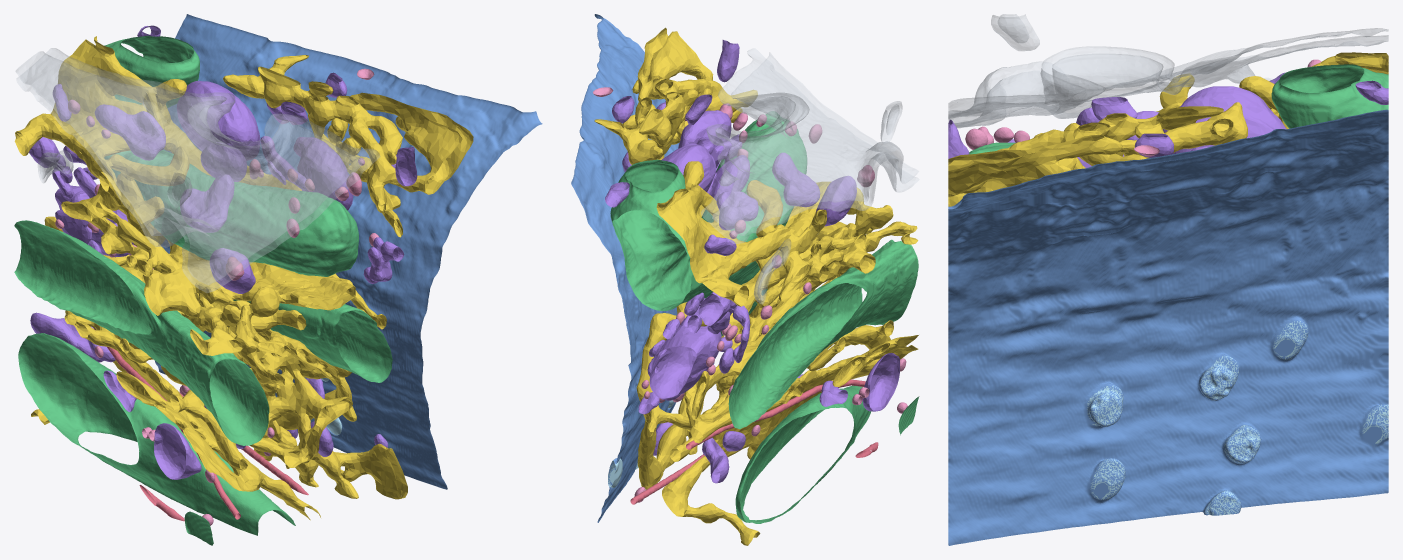
Rendered from hela_organelles.glb.
3 views of the same model, side by side, from view 1: azimuth 30°, elevation 25°; view 2: azimuth 150°, elevation 25°; view 3: azimuth 270°, elevation 25° (orthographic). The views are drawn at different scales.
Parts seen in each view (by area): view 1: er, mitochondria, plasma_membrane, nucleus, endosome, vesicle, microtubule; view 2: er, mitochondria, plasma_membrane, endosome, nucleus, vesicle, microtubule; view 3: nucleus, plasma_membrane, er, mitochondria, endosome, nuclear_pore, vesicle.
Boxes of the visible parts, x1,y1,x2,y2 form: er: (14,36,473,520); mitochondria: (14,35,392,545); plasma_membrane: (15,48,380,292); nucleus: (154,14,542,489); endosome: (29,25,417,479); vesicle: (55,68,378,525); microtubule: (93,328,308,521); er: (594,27,918,545); mitochondria: (610,111,919,523); plasma_membrane: (701,48,919,304); endosome: (605,40,899,483); nucleus: (571,14,679,522); vesicle: (593,87,907,502); microtubule: (630,379,878,504); nucleus: (948,109,1388,545); plasma_membrane: (948,14,1388,128); er: (948,52,1388,206); mitochondria: (969,64,1388,154); endosome: (948,72,1388,167); nuclear_pore: (1087,321,1388,515); vesicle: (965,59,1321,156).
Bounding box in the file's own units: 1596 × 1596 × 1596.
